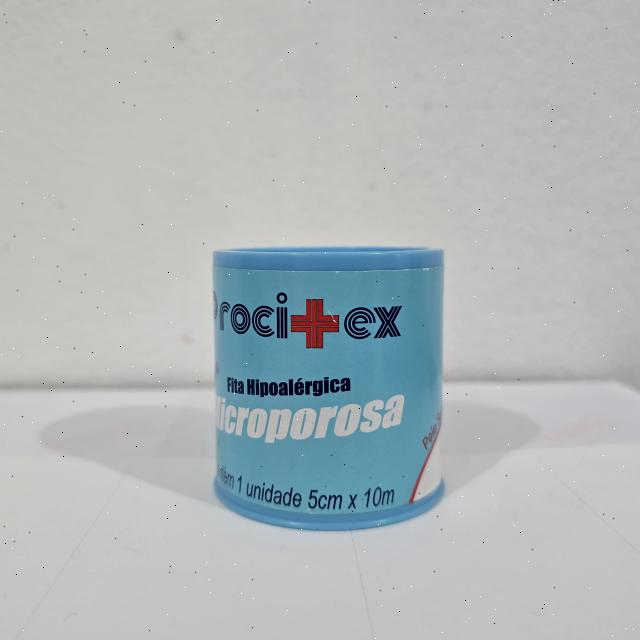procitex: (208, 240, 448, 536)
